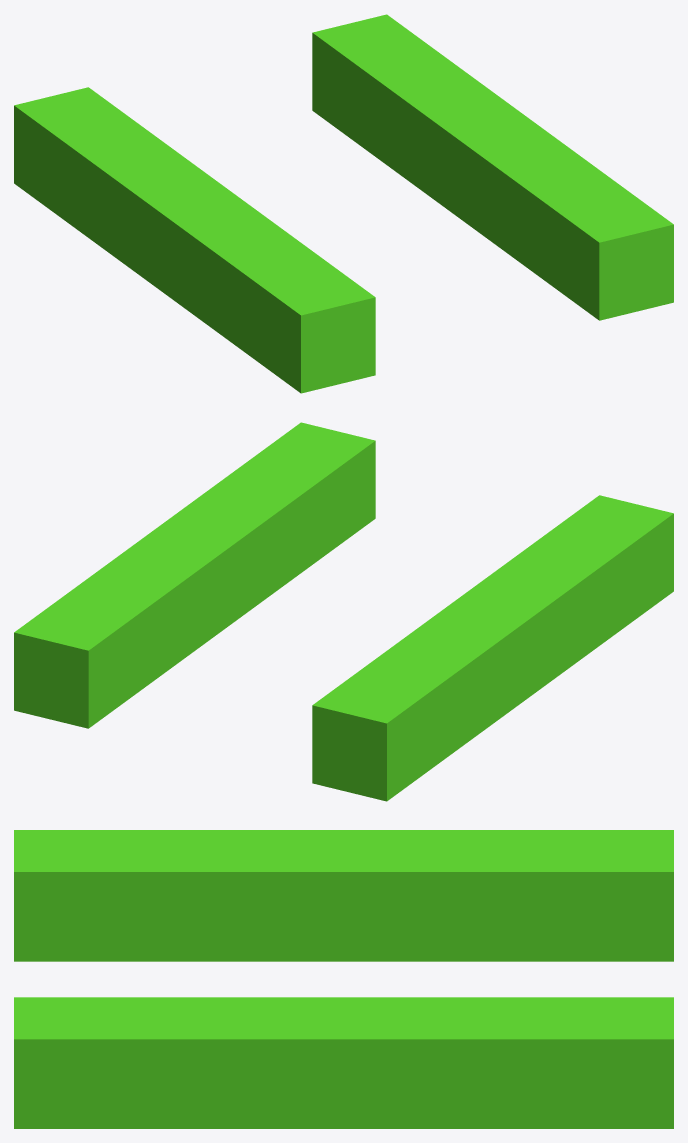
Rendered from PlayerBulletTwin.fbx.
3 views of the same model, one above another, from view 1: azimuth 30°, elevation 25°; view 2: azimuth 150°, elevation 25°; view 3: azimuth 270°, elevation 25° (orthographic). The views are drawn at different scales.
Visible parts, largest first — view 1: Cube, Cube__3_; view 2: Cube, Cube__3_; view 3: Cube, Cube__3_.
Boxes of the visible parts, box(x1,y1,x2,y2) form: Cube: box(312, 14, 673, 320); Cube__3_: box(14, 87, 375, 393); Cube: box(14, 422, 375, 728); Cube__3_: box(312, 495, 673, 801); Cube: box(14, 997, 673, 1128); Cube__3_: box(14, 830, 673, 961).
Size of the model in its own units: 75 by 15 by 100.
